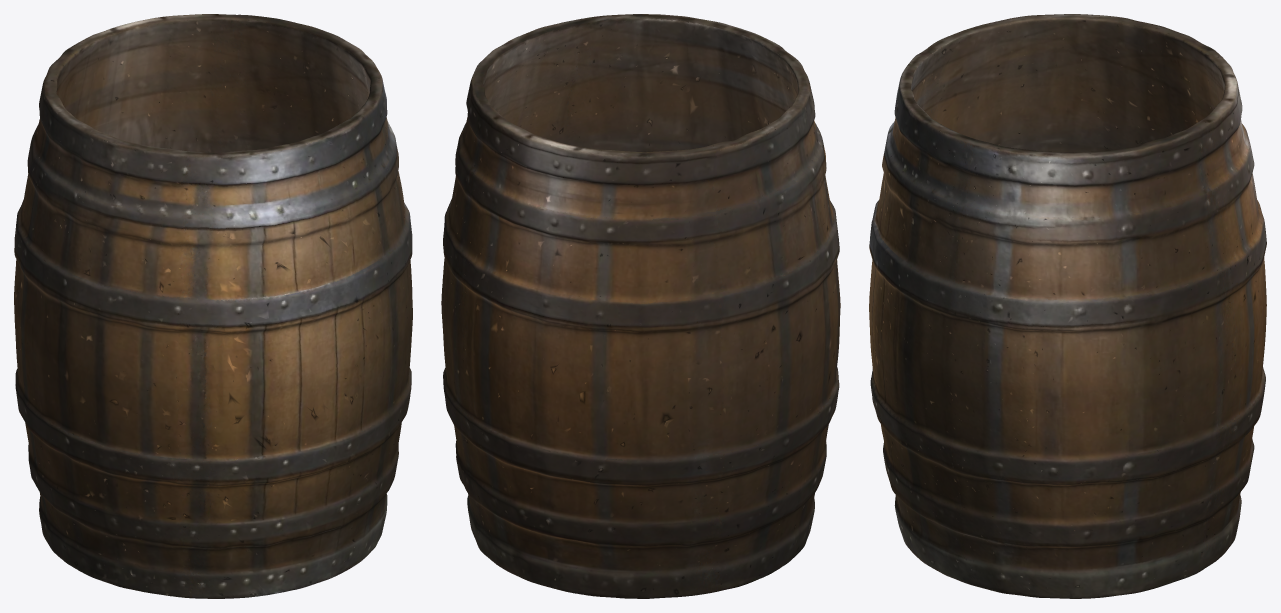
The model's file is barrel1.glb.
3 renders of one model, left to right at view 1: azimuth 30°, elevation 25°; view 2: azimuth 150°, elevation 25°; view 3: azimuth 270°, elevation 25°, orthographic.
Bounding box in the file's own units: 1.63 × 2.01 × 1.63.
1 material, 1 textured.
